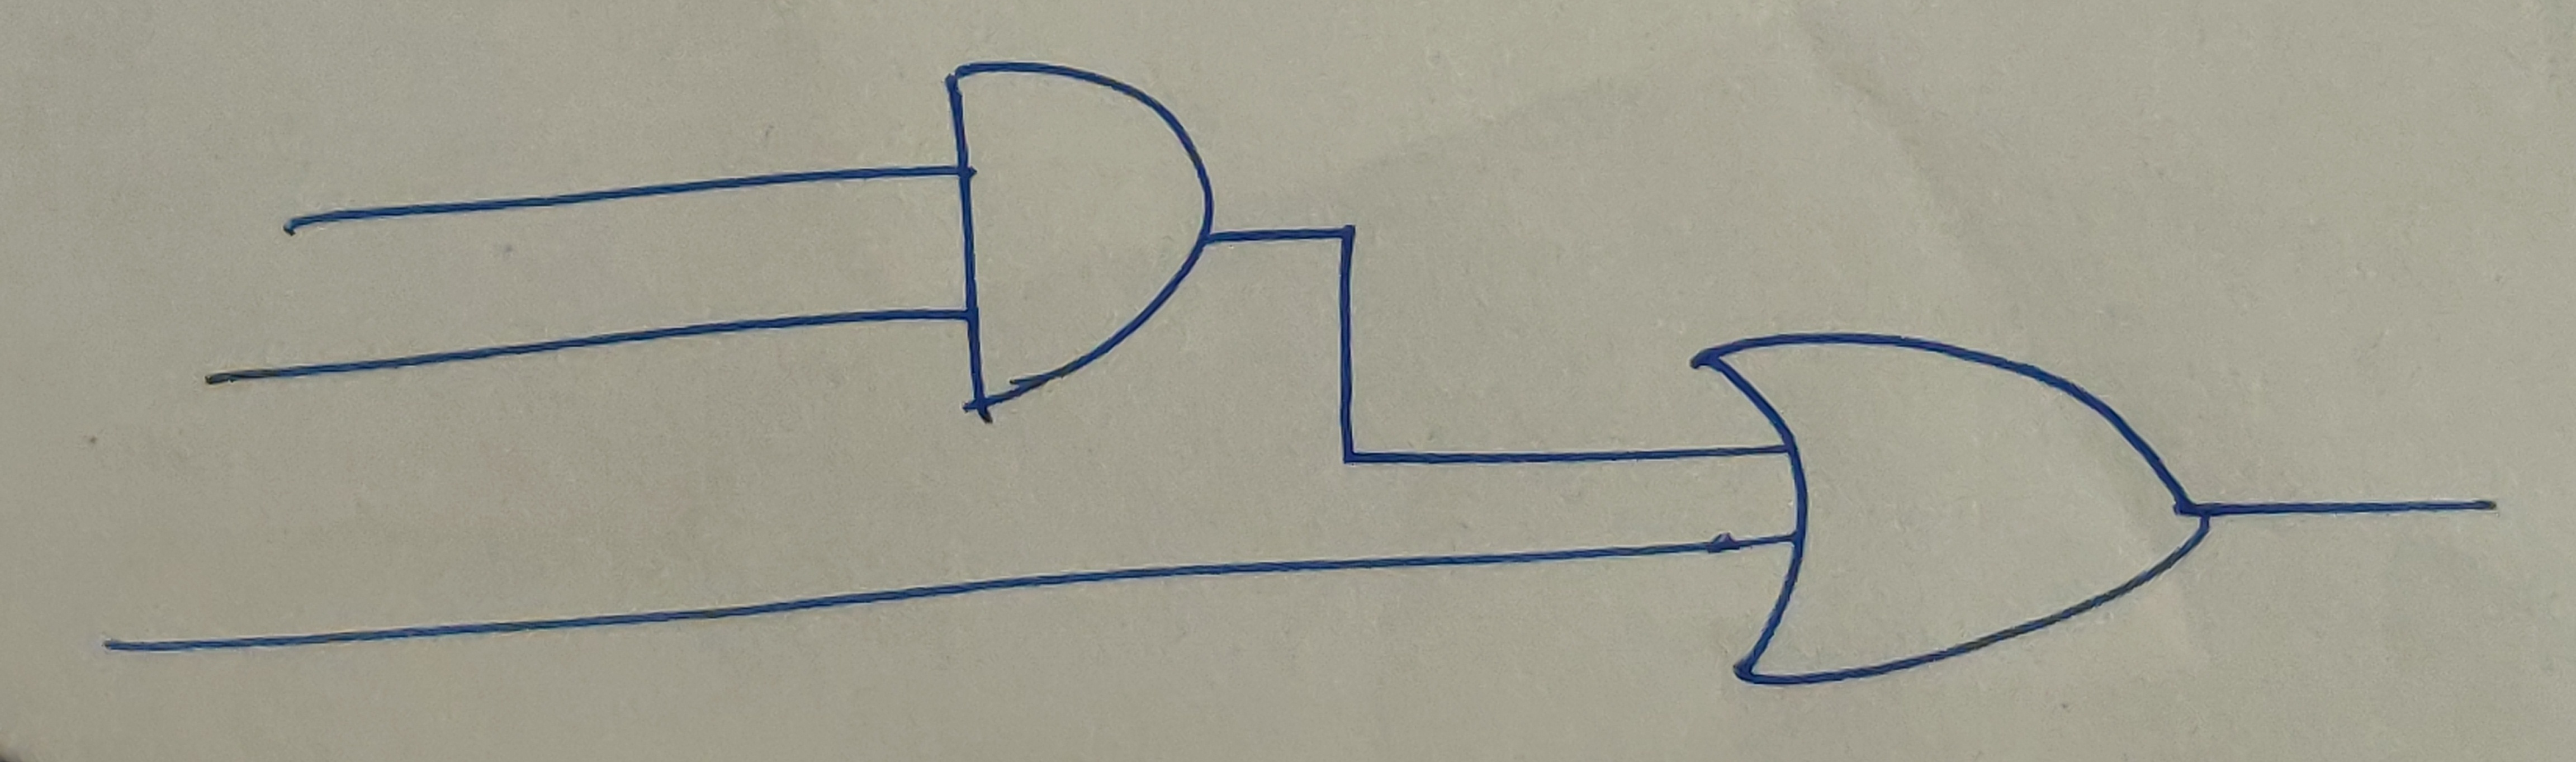and: (946, 54, 1219, 414)
or: (1686, 335, 2211, 693)
